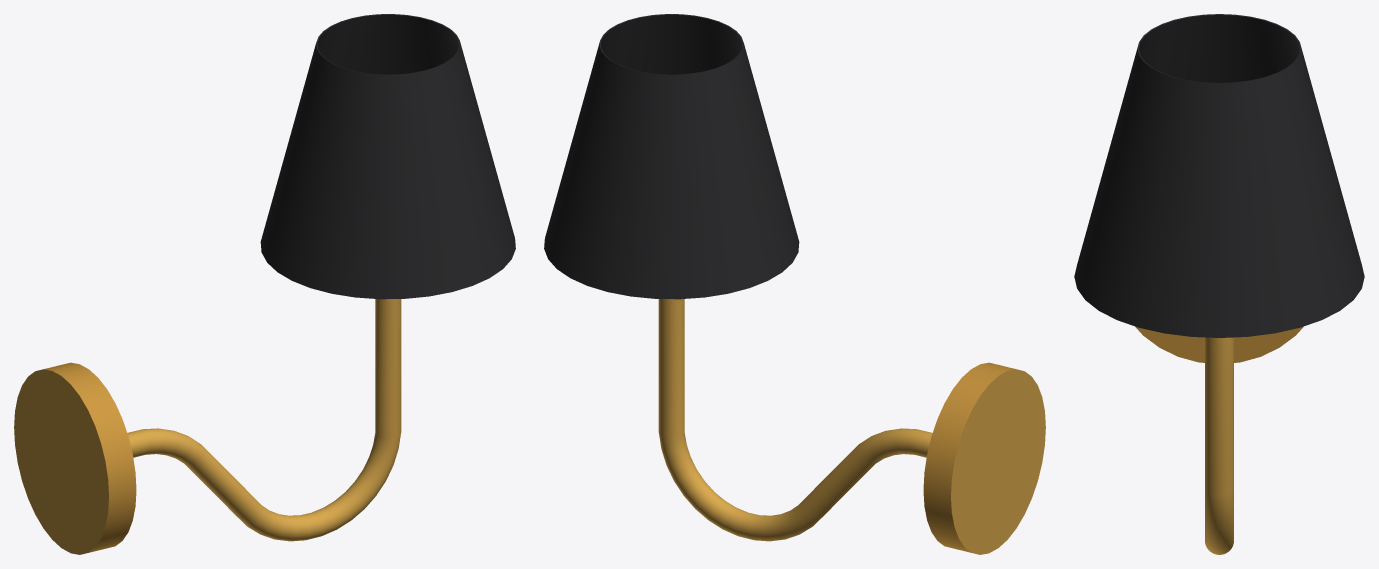
File: wall_light.fbx
3 views of the same model, side by side, from view 1: azimuth 30°, elevation 25°; view 2: azimuth 150°, elevation 25°; view 3: azimuth 270°, elevation 25° (orthographic). The views are drawn at different scales.
Parts seen in each view (by area): view 1: Circle, Cylinder, Cylinder.003; view 2: Circle, Cylinder, Cylinder.003; view 3: Circle, Cylinder, Cylinder.003.
Boxes of the visible parts, x1,y1,x2,y2 form: Circle: (260, 14, 515, 299); Cylinder: (14, 299, 401, 554); Cylinder.003: (44, 362, 136, 552); Circle: (544, 14, 799, 299); Cylinder: (658, 299, 1045, 554); Cylinder.003: (923, 362, 1015, 552); Circle: (1074, 14, 1364, 337); Cylinder: (1205, 337, 1233, 554); Cylinder.003: (1135, 326, 1303, 362).
Bounding box in the file's own units: 319 × 330 × 162.
